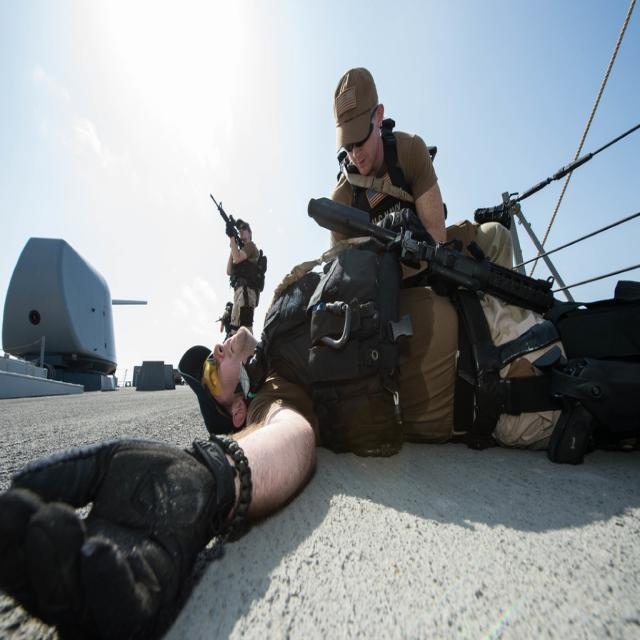Weapon: (305, 170, 558, 330)
